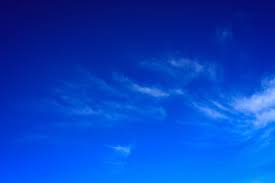sky: (1, 1, 274, 182)
